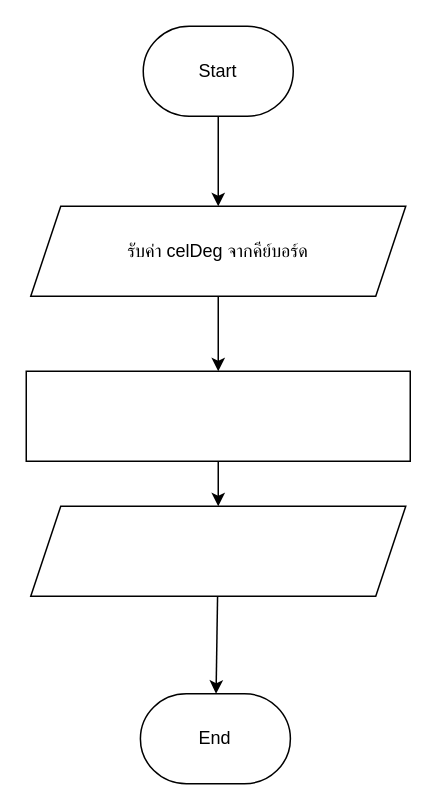
This 437x810 diagram has some shape labels left out. Here are the shapes that lost their labels. From the top down, the centre of each, then its label:
the point at 217,415: fahDeg = celDeg * 1.8 + 32
the point at 217,550: แสดงผลลัพธ์ fahDeg
